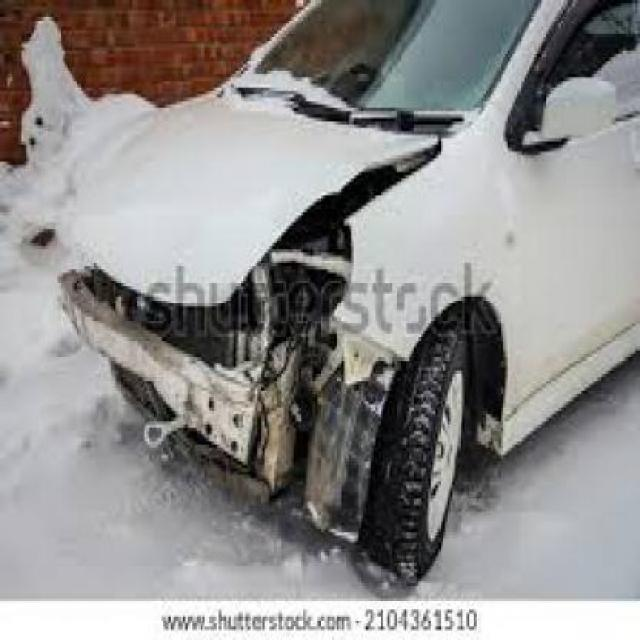damaged-hood: (78, 92, 430, 312)
